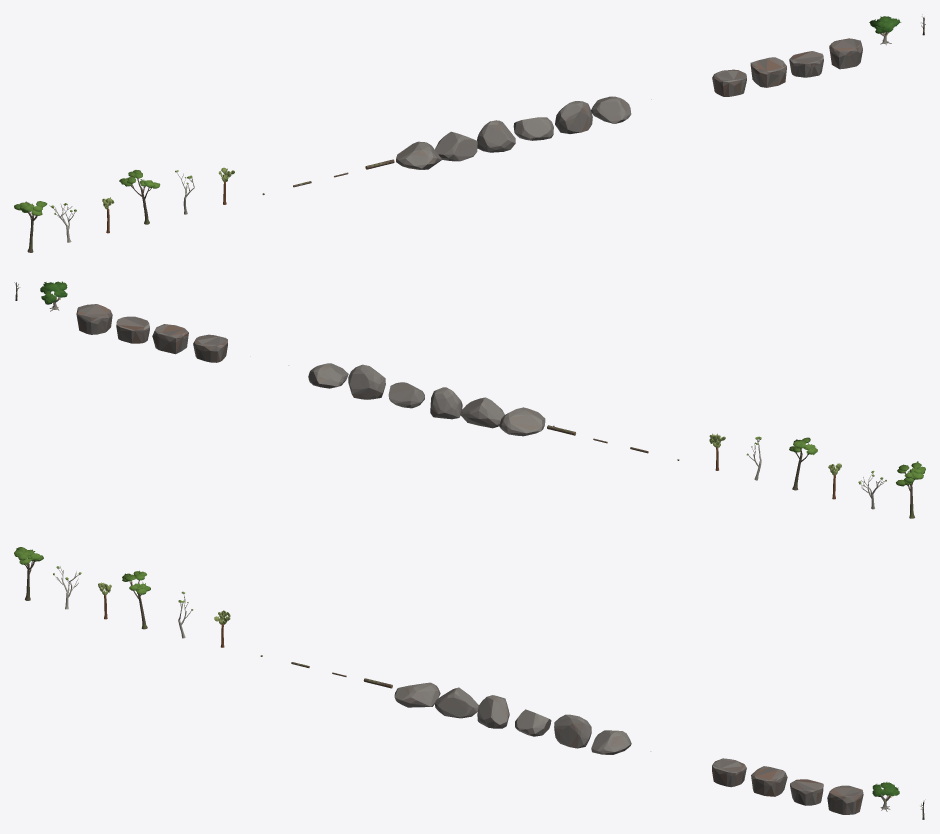
Rendered from props.glb.
The picture shows the model from 3 angles, top to bottom: view 1: azimuth 30°, elevation 25°; view 2: azimuth 150°, elevation 25°; view 3: azimuth 330°, elevation 25°; orthographic projection.
Parts seen in each view (by area): view 1: rock_4, rock_2, rock_1, rock_0, slab_1, slab_3, rock_5, rock_3, slab_0, slab_2, scalesia_1; view 2: rock_4, rock_0, rock_1, slab_3, slab_1, rock_2, slab_0, slab_2, rock_5, rock_3, scalesia_0, fig_tree; view 3: rock_4, rock_1, rock_0, slab_3, slab_1, rock_2, slab_0, rock_5, slab_2, rock_3.
Boxes of the visible parts, x1,y1,x2,y2 form: rock_4: (555, 101, 592, 133); rock_2: (477, 120, 515, 152); rock_1: (435, 131, 477, 161); rock_0: (396, 141, 441, 169); slab_1: (750, 57, 786, 87); slab_3: (829, 38, 862, 69); rock_5: (591, 96, 631, 123); rock_3: (513, 117, 553, 140); slab_0: (712, 69, 746, 96); slab_2: (789, 51, 823, 77); scalesia_1: (119, 170, 160, 224); rock_4: (348, 364, 385, 399); rock_0: (499, 407, 545, 436); rock_1: (460, 397, 504, 428); slab_3: (76, 304, 112, 334); slab_1: (152, 324, 188, 354); rock_2: (430, 387, 462, 419); slab_0: (193, 334, 227, 362); slab_2: (116, 316, 149, 343); rock_5: (308, 363, 348, 388); rock_3: (388, 382, 424, 408); scalesia_0: (896, 461, 925, 518); fig_tree: (40, 281, 67, 311); rock_4: (554, 714, 591, 748); rock_1: (434, 687, 478, 718); rock_0: (394, 682, 440, 707); slab_3: (827, 785, 863, 814); slab_1: (751, 766, 787, 796); rock_2: (477, 695, 509, 728); slab_0: (712, 758, 746, 787); rock_5: (591, 730, 631, 754); slab_2: (790, 779, 823, 805); rock_3: (515, 709, 551, 736).
Bounding box in the file's own units: 46.73 × 3.03 × 2.17.
